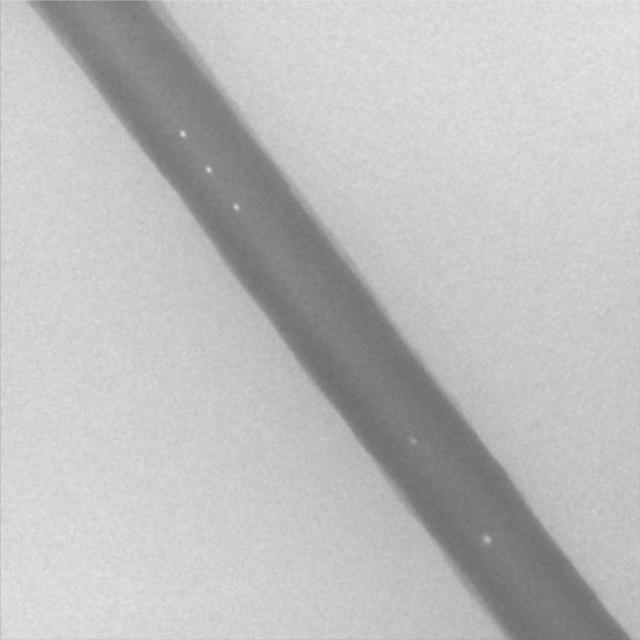air hole: (481, 532, 491, 546), (407, 435, 417, 447), (231, 201, 240, 212), (178, 127, 186, 139), (204, 164, 212, 174)
